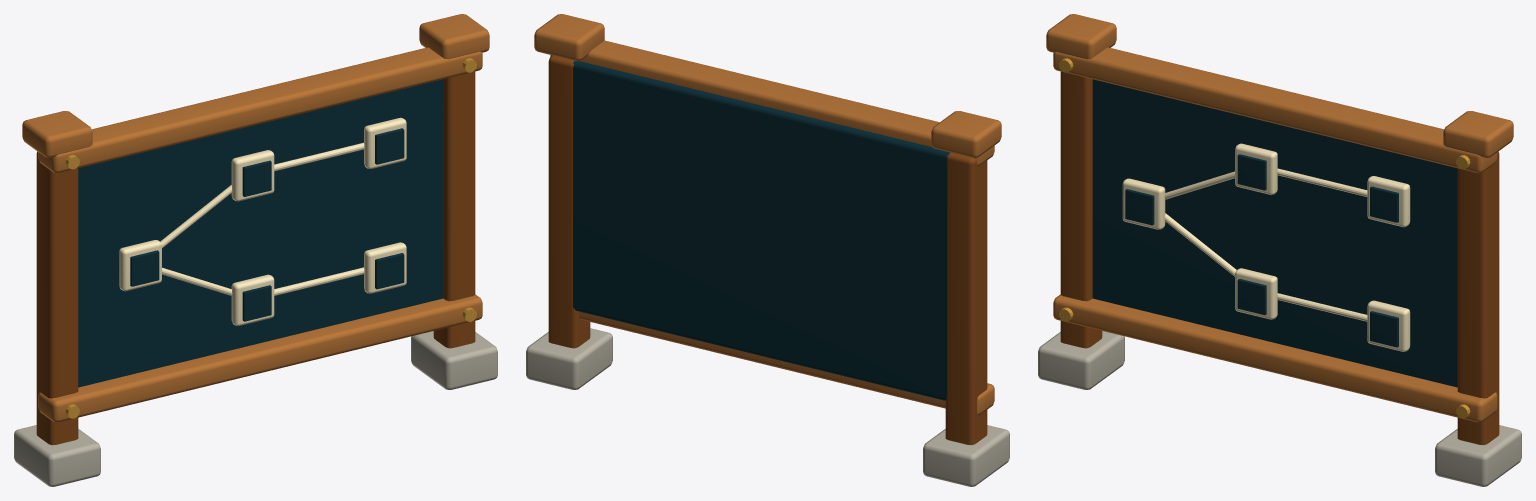
Rendered from OBJ34_logic_lesson_board.glb.
3 views of the same model, side by side, from view 1: azimuth 30°, elevation 25°; view 2: azimuth 150°, elevation 25°; view 3: azimuth 330°, elevation 25° (orthographic).
Parts seen in each view (by area): view 1: Slate panel, Horizontal oak rail.001, Horizontal oak rail, Timber post, Timber post.001, Board foot, Board foot.001, Post cap, Post cap.001, Logic block.002, Logic block.001, Logic block (+11 smaller); view 2: Slate panel, Timber post, Horizontal oak rail.001, Timber post.001, Board foot, Board foot.001, Horizontal oak rail, Post cap, Post cap.001; view 3: Slate panel, Horizontal oak rail.001, Horizontal oak rail, Timber post.001, Timber post, Board foot.001, Board foot, Post cap.001, Post cap, Logic block, Logic block.003, Logic block.004 (+11 smaller).
Boxes of the visible parts, x1=… form: Slate panel: x1=78, y1=79, x2=443, y2=387; Horizontal oak rail.001: x1=38, y1=47, x2=482, y2=173; Horizontal oak rail: x1=38, y1=294, x2=482, y2=422; Timber post: x1=36, y1=151, x2=78, y2=445; Timber post.001: x1=433, y1=71, x2=475, y2=348; Board foot: x1=14, y1=425, x2=100, y2=486; Board foot.001: x1=411, y1=331, x2=497, y2=389; Post cap: x1=22, y1=111, x2=92, y2=157; Post cap.001: x1=419, y1=14, x2=489, y2=59; Logic block.002: x1=231, y1=274, x2=274, y2=325; Logic block.001: x1=231, y1=150, x2=274, y2=201; Logic block: x1=119, y1=240, x2=161, y2=291; Slate panel: x1=573, y1=60, x2=950, y2=400; Timber post: x1=945, y1=152, x2=987, y2=445; Horizontal oak rail.001: x1=550, y1=40, x2=994, y2=165; Timber post.001: x1=548, y1=55, x2=590, y2=348; Board foot: x1=923, y1=425, x2=1009, y2=486; Board foot.001: x1=526, y1=328, x2=612, y2=389; Horizontal oak rail: x1=579, y1=311, x2=994, y2=415; Post cap: x1=931, y1=111, x2=1001, y2=157; Post cap.001: x1=534, y1=14, x2=604, y2=61; Slate panel: x1=1092, y1=79, x2=1457, y2=387; Horizontal oak rail.001: x1=1053, y1=47, x2=1497, y2=173; Horizontal oak rail: x1=1053, y1=294, x2=1497, y2=422; Timber post.001: x1=1457, y1=151, x2=1499, y2=445; Timber post: x1=1060, y1=71, x2=1102, y2=348; Board foot.001: x1=1435, y1=425, x2=1521, y2=486; Board foot: x1=1038, y1=331, x2=1124, y2=389; Post cap.001: x1=1443, y1=111, x2=1513, y2=157; Post cap: x1=1046, y1=14, x2=1116, y2=59; Logic block: x1=1122, y1=178, x2=1165, y2=229; Logic block.003: x1=1367, y1=176, x2=1410, y2=227; Logic block.004: x1=1367, y1=300, x2=1410, y2=351.
Size of the model in its own units: 3.4 by 2.5 by 0.5.
